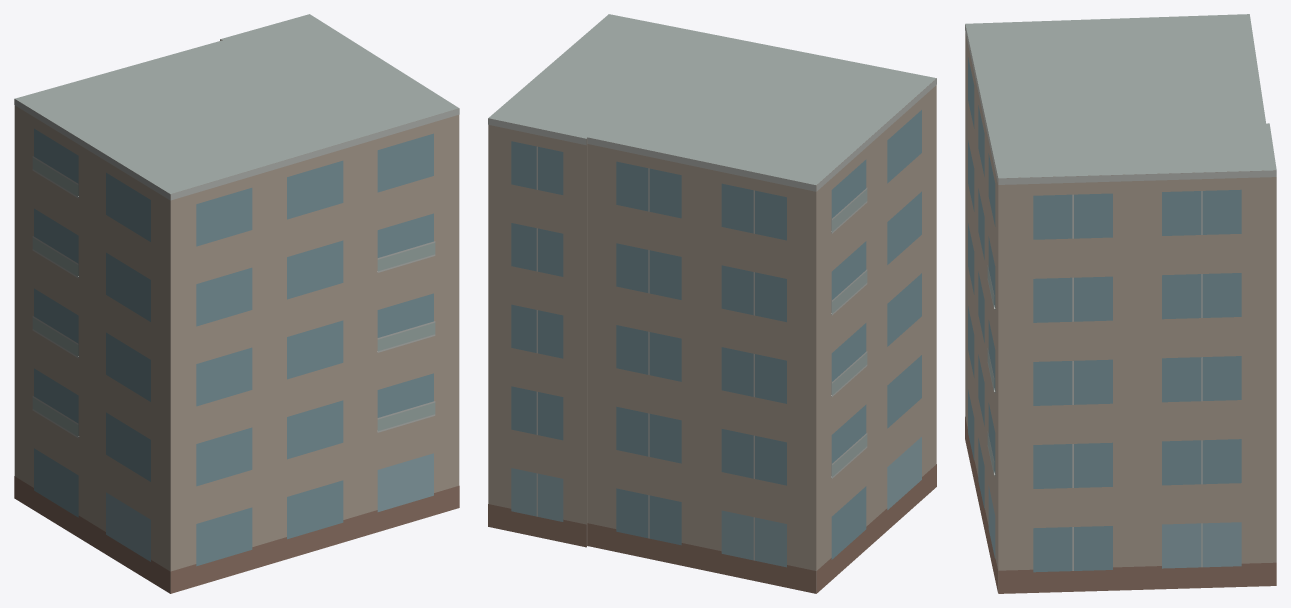
File: survey-upis-32674498.glb
The picture shows the model from 3 angles, left to right: view 1: azimuth 30°, elevation 25°; view 2: azimuth 150°, elevation 25°; view 3: azimuth 270°, elevation 25°; orthographic projection. The views are drawn at different scales.
Visible parts, largest first — view 1: survey-upis-32674498.tmp; view 2: survey-upis-32674498.tmp; view 3: survey-upis-32674498.tmp.
Part boxes in pixels (x1,y1,x2,y2): survey-upis-32674498.tmp: [14, 14, 459, 593]; survey-upis-32674498.tmp: [488, 14, 936, 593]; survey-upis-32674498.tmp: [965, 14, 1276, 593].
Bounding box in the file's own units: 12.95 × 15.25 × 10.37.
